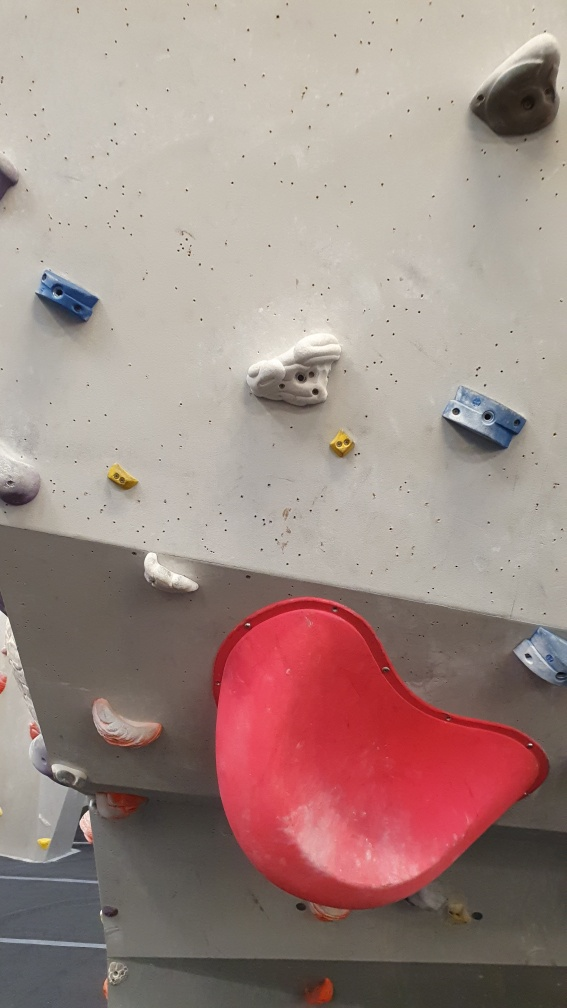Crimp: (103, 461, 146, 496)
Jug: (466, 30, 567, 144), (243, 330, 343, 409), (87, 694, 169, 750), (139, 548, 209, 605)
Pinch: (440, 382, 529, 448), (33, 264, 102, 323), (512, 620, 567, 691), (325, 430, 358, 460)
